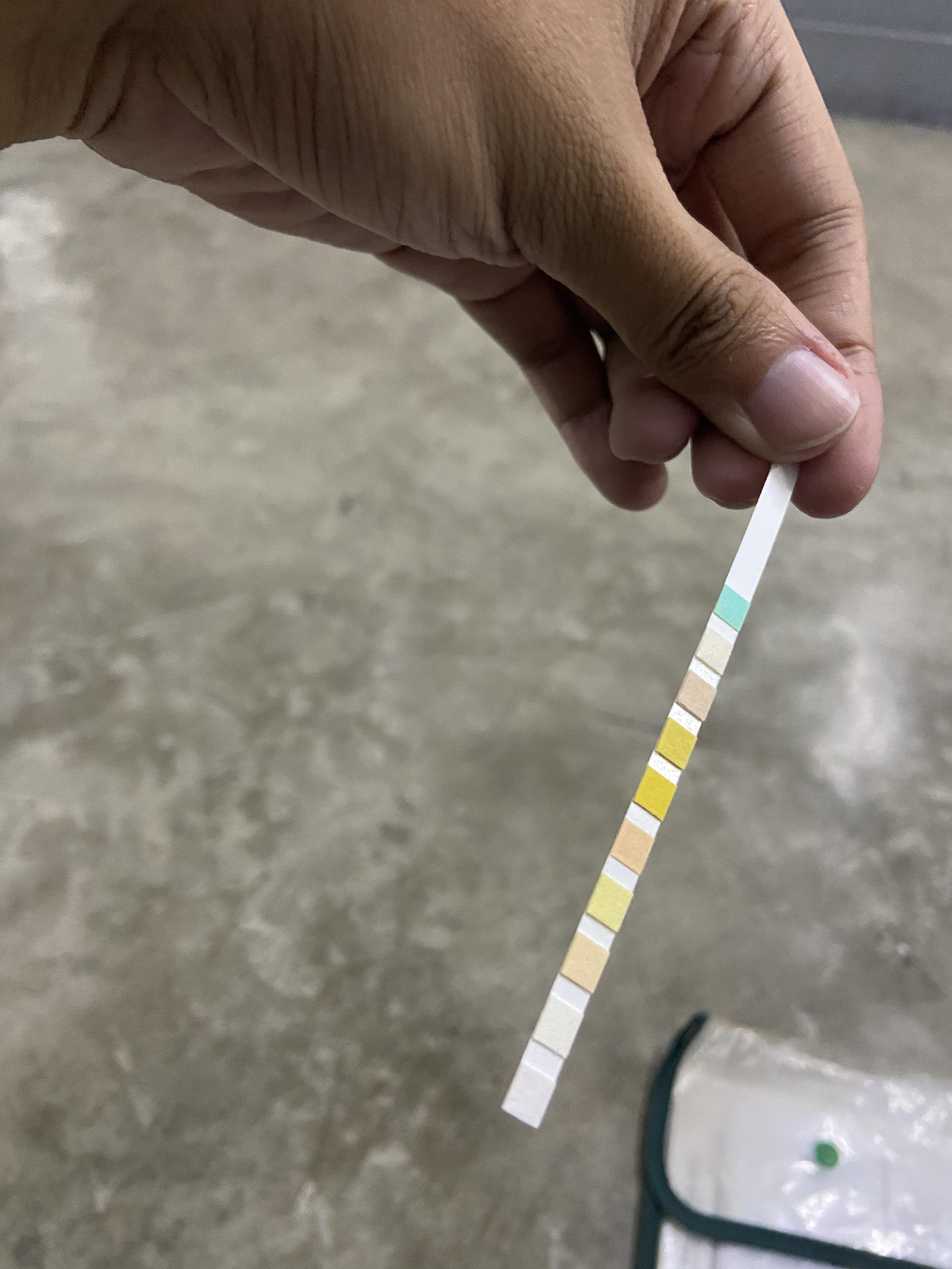Bilirubin: (703, 639, 726, 659)
Blood: (642, 780, 669, 804)
Glucose: (721, 596, 742, 618)
Ketone: (685, 684, 709, 705)
Leukocytes: (514, 1079, 544, 1114)
Nitrite: (544, 1010, 572, 1044)
SpGravity: (664, 731, 689, 755)
Urobilinogen: (571, 949, 601, 978)
pH: (595, 889, 625, 917), (619, 833, 645, 859)
strip: (501, 473, 795, 1130)
